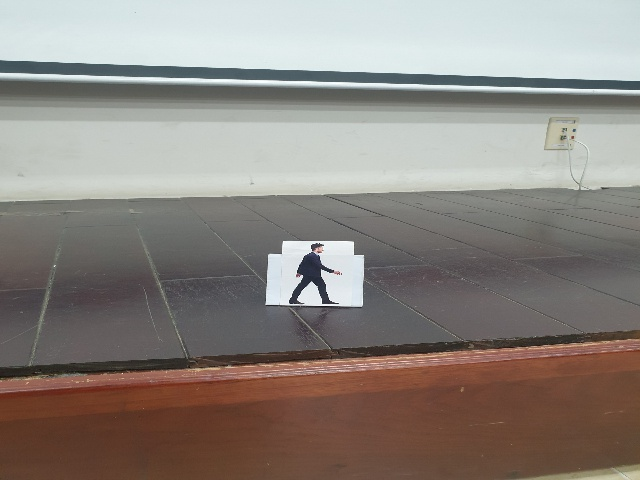Person: (287, 242, 346, 306)
